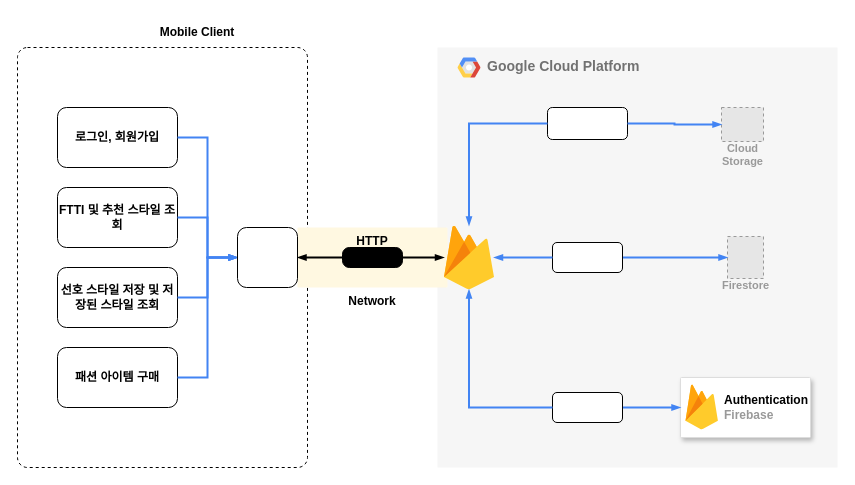
Image size: 855x485. Some labels were removed from this diagram. Grey dashed boxes stand in for pictures. The centre of each missing label's shape, as x and y in pixels:
"FTTI" goes at pixel 267 257.
"사용자 인증" goes at pixel 587 407.
"유저 데이터" goes at pixel 587 257.
"이미지 데이터" goes at pixel 587 123.
